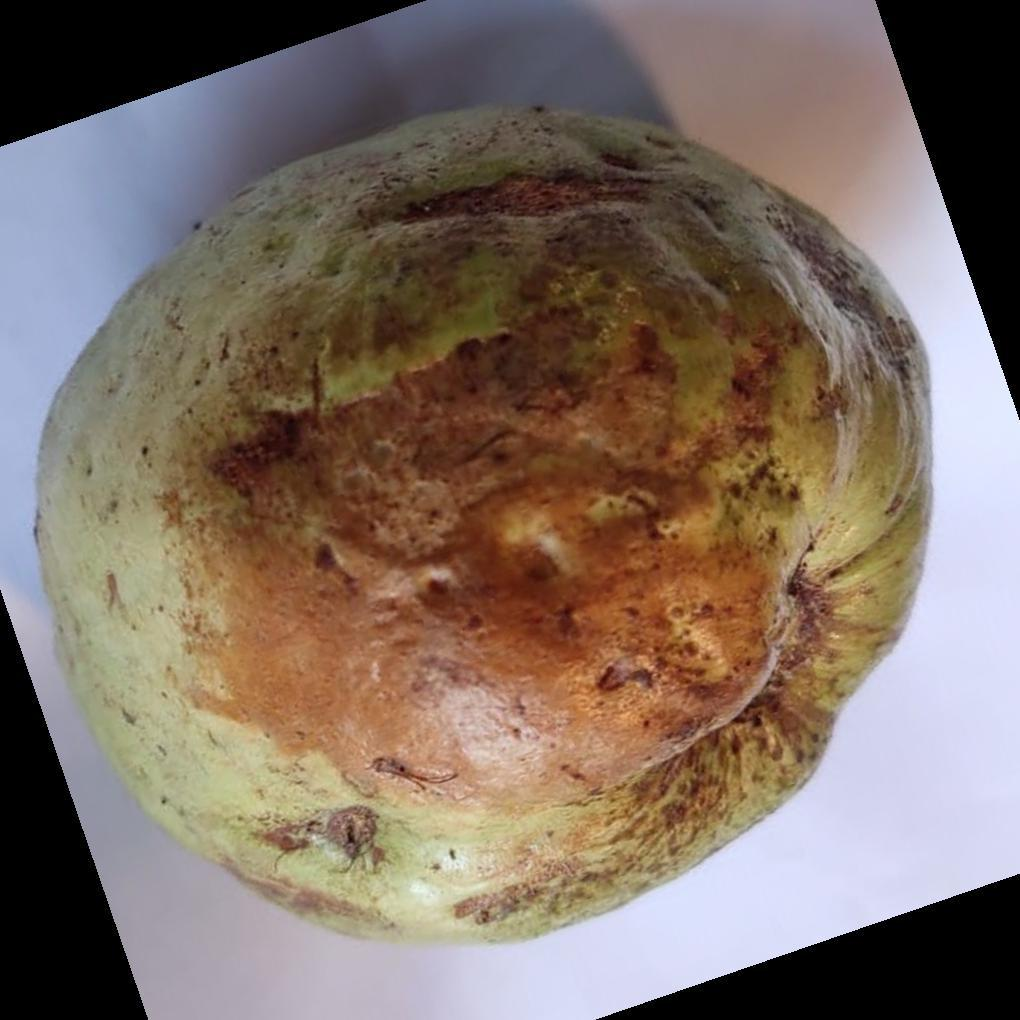FreshOrange: (32, 105, 934, 950)
